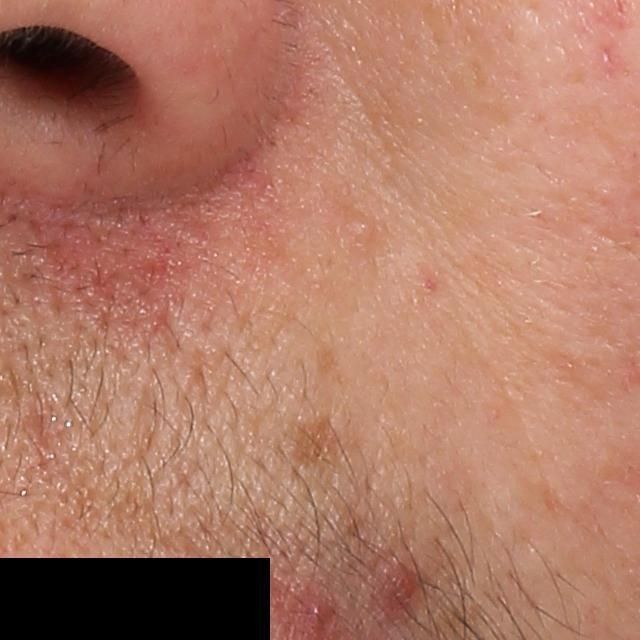papule: (300, 592, 338, 638)
